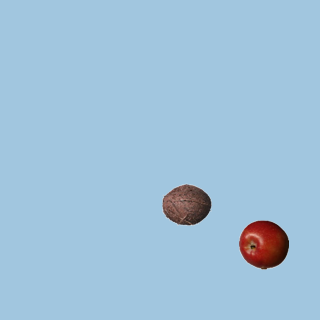Apple Braeburn: (238, 219, 288, 269)
Cocos: (161, 179, 211, 229)
